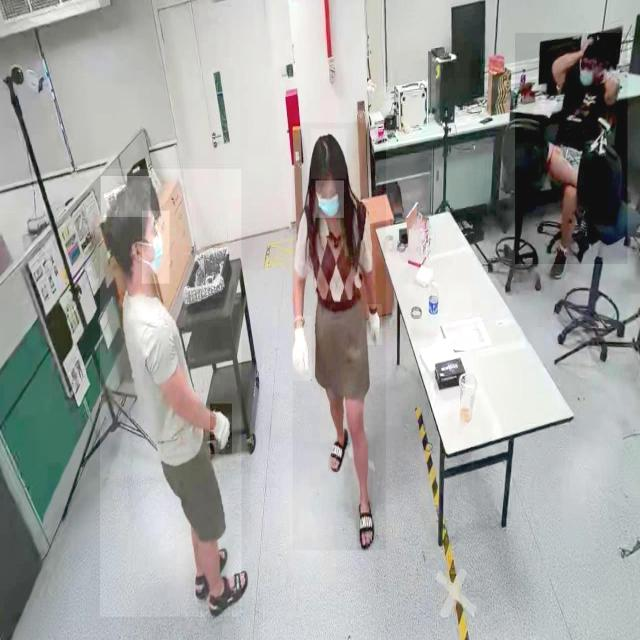face_mask: (142, 210, 170, 284), (316, 180, 344, 218), (577, 49, 595, 88)
hand_glove: (292, 316, 312, 382), (210, 404, 232, 455), (366, 304, 382, 345)
head_nohelmet: (100, 176, 150, 218), (310, 129, 346, 179), (582, 36, 602, 57)
person: (100, 169, 242, 618), (292, 123, 386, 551), (514, 33, 628, 265)
shoes: (547, 246, 574, 284)
